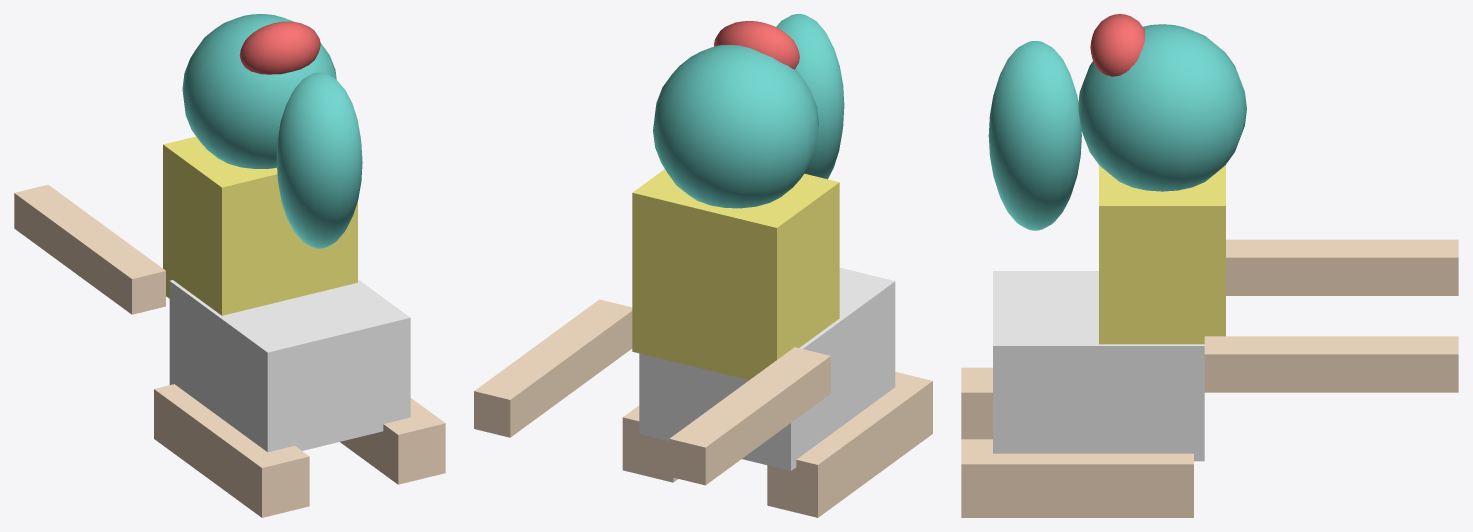
The model's file is rider.glb.
The picture shows the model from 3 angles, left to right: view 1: azimuth 30°, elevation 25°; view 2: azimuth 150°, elevation 25°; view 3: azimuth 270°, elevation 25°; orthographic projection. The views are drawn at different scales.
Size of the model in its own units: 0.64 by 1.17 by 1.18.
